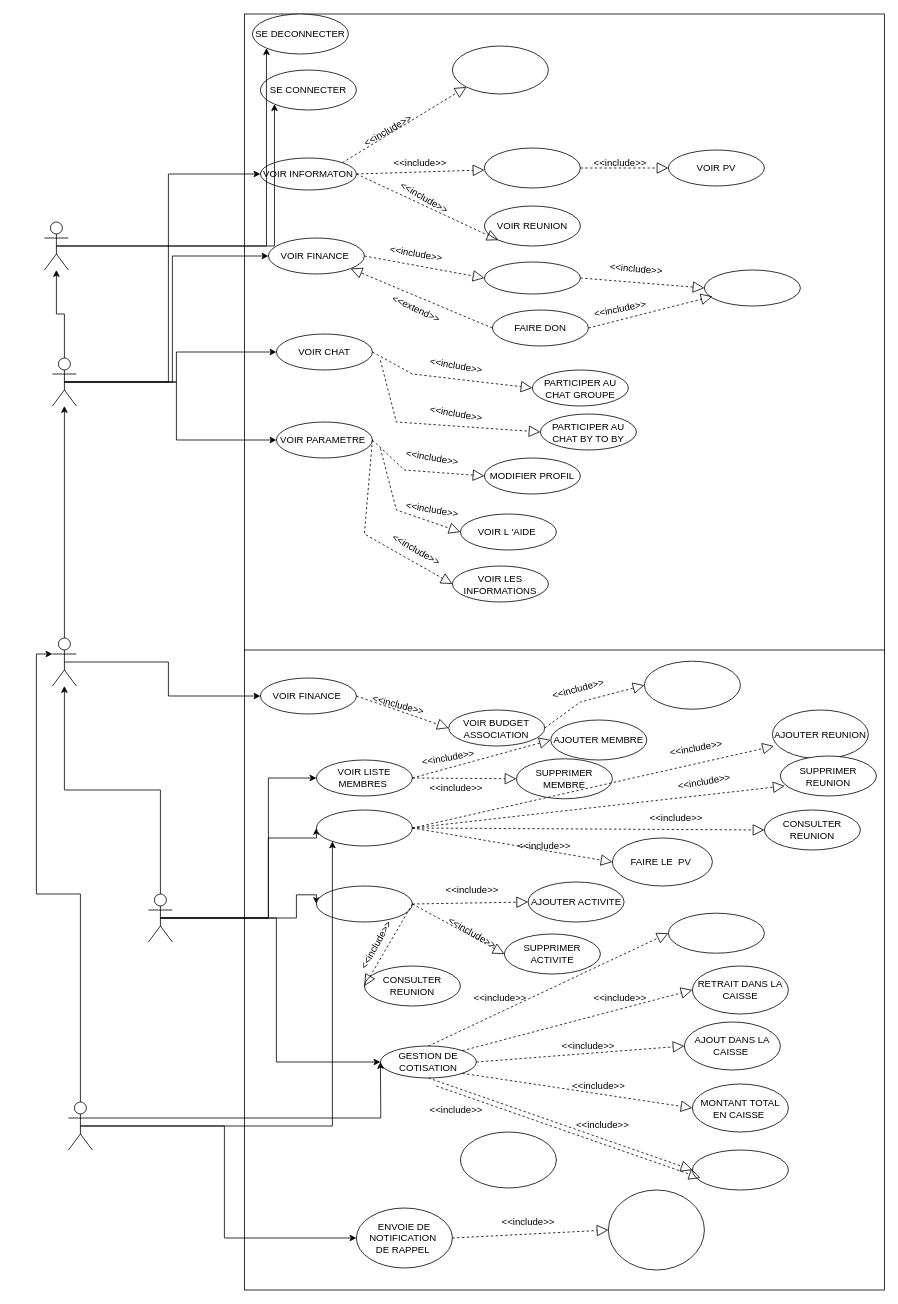
Some shapes in this 898 by 1304 pixel diagram are drawn without their labels. Here are the shapes that lost their labels. From the top down, the box of each, then its label:
(452, 45, 548, 94): VOIR ACTIVITE
(484, 147, 580, 188): VOIR JOURNAL
(44, 221, 68, 270): visiteur
(484, 261, 580, 294): COTISATION
(704, 269, 800, 306): PAIEMENT
(52, 357, 76, 406): MEMBRES
(52, 637, 76, 686): MEMBRE DU BUREAU
(644, 660, 740, 709): POINT DE COTISATION
(316, 809, 412, 846): VOIR REUNIONS
(148, 893, 172, 942): PRESIDENT
(316, 885, 412, 922): CREER LES ACTIVITES
(668, 912, 764, 953): ENREGISTREMENT DES DONS
(68, 1101, 92, 1150): SECRETAIRE
(460, 1131, 556, 1188): GERER LE BUDJET
(692, 1149, 788, 1190): REALISATION DES PROJETS
(608, 1189, 704, 1270): NOTIFICATION INFORMATION POUR PREVENIR LES MEMBRES DE L'ASSOCIATION
